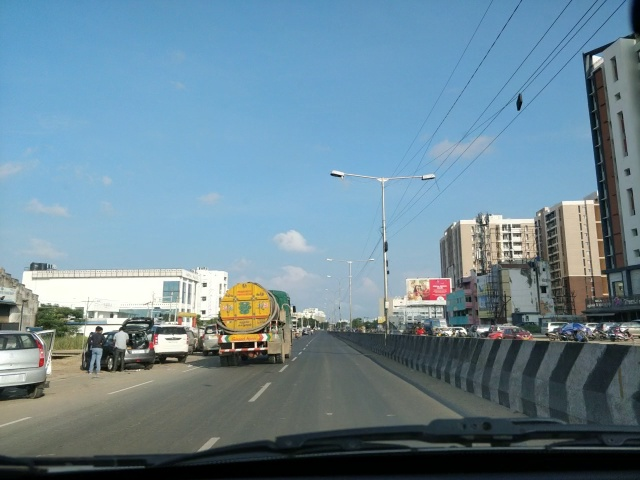car: (3, 324, 57, 400), (82, 330, 156, 370), (148, 322, 192, 364), (505, 324, 531, 340)
motorbike: (559, 326, 588, 343), (608, 332, 635, 345)
person: (90, 324, 104, 379), (116, 325, 128, 374)
truck: (213, 278, 296, 367)
